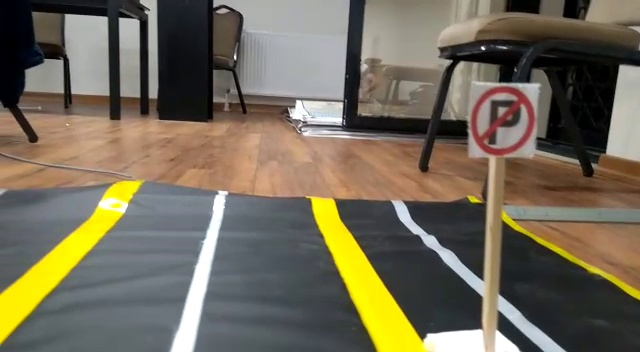park_yapilmaz: (467, 86, 534, 157)
